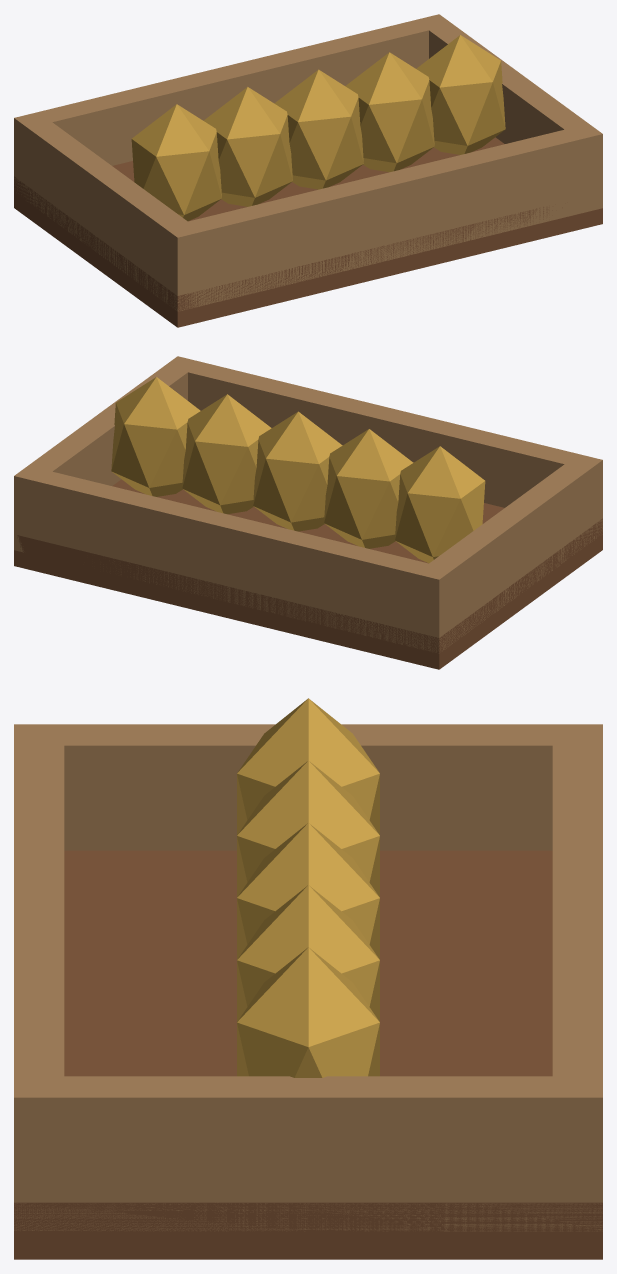
Rendered from set_muffin_tin.glb.
3 renders of one model, top to bottom at view 1: azimuth 30°, elevation 25°; view 2: azimuth 150°, elevation 25°; view 3: azimuth 270°, elevation 25°, orthographic. The views are drawn at different scales.
Parts seen in each view (by area): view 1: set_muffin_tin; view 2: set_muffin_tin; view 3: set_muffin_tin.
Part boxes in pixels (x1,y1,x2,y2): set_muffin_tin: (14,14,602,327); set_muffin_tin: (14,356,602,669); set_muffin_tin: (14,698,602,1259).
Size of the model in its own units: 0.42 by 0.136 by 0.28.
